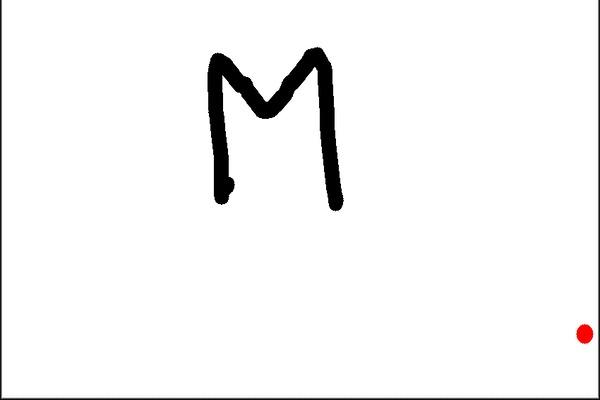M: (204, 45, 347, 212)
